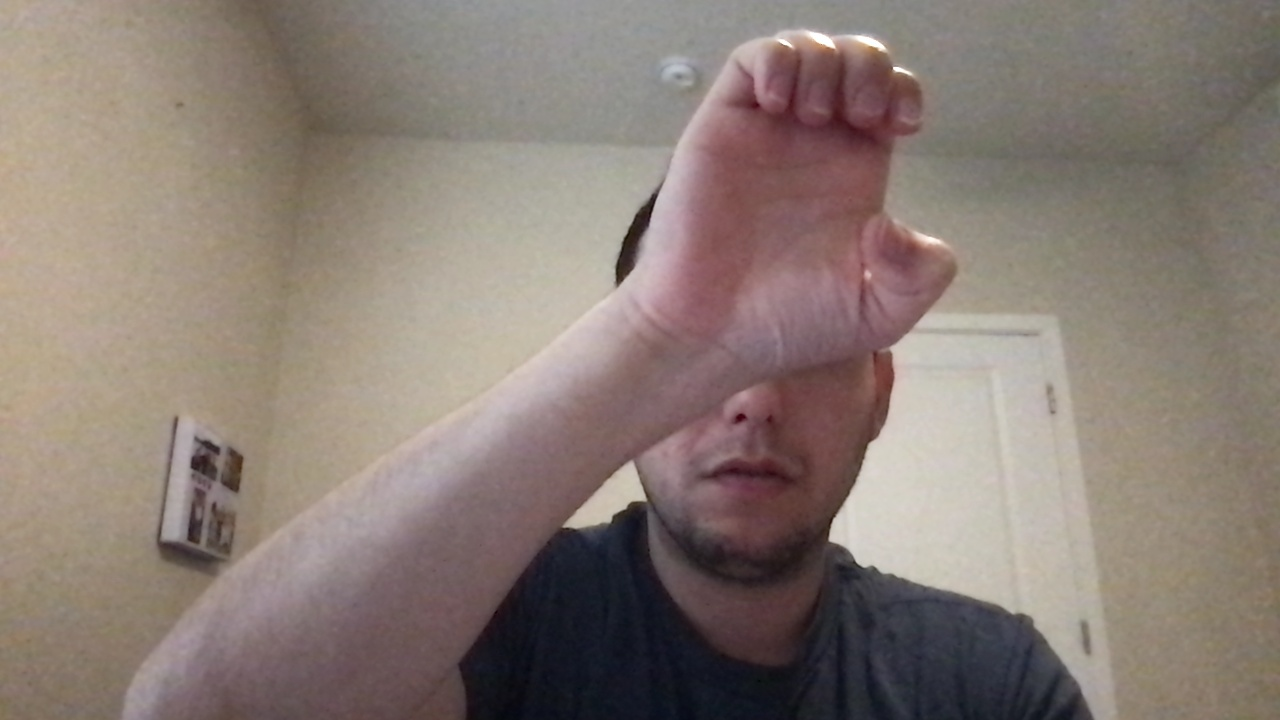e: (671, 25, 969, 378)
